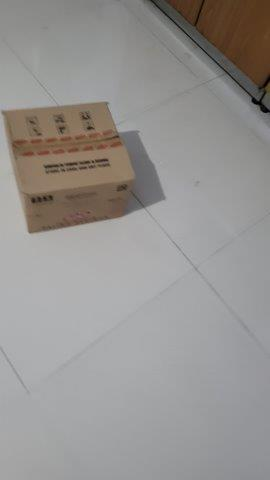kardus: (1, 103, 135, 234)
